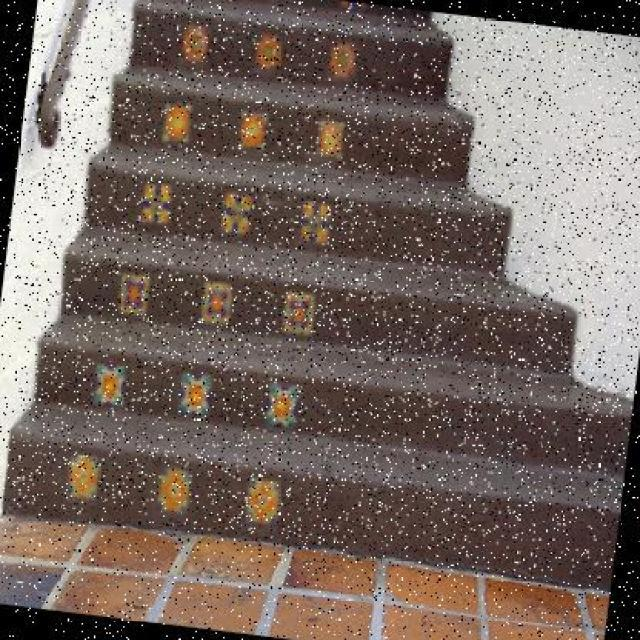Stairs: (60, 13, 631, 583)
